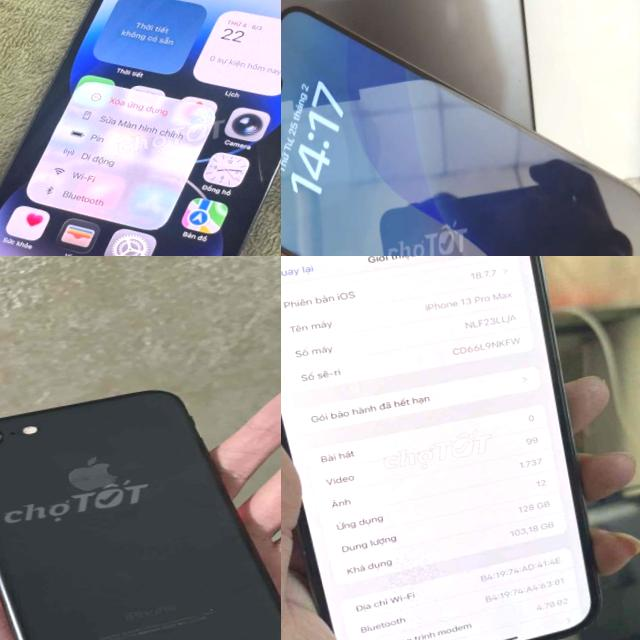scratch: (568, 186, 582, 213), (205, 601, 225, 617), (0, 421, 9, 449)
